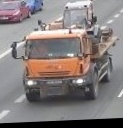truck: (8, 1, 123, 106)
